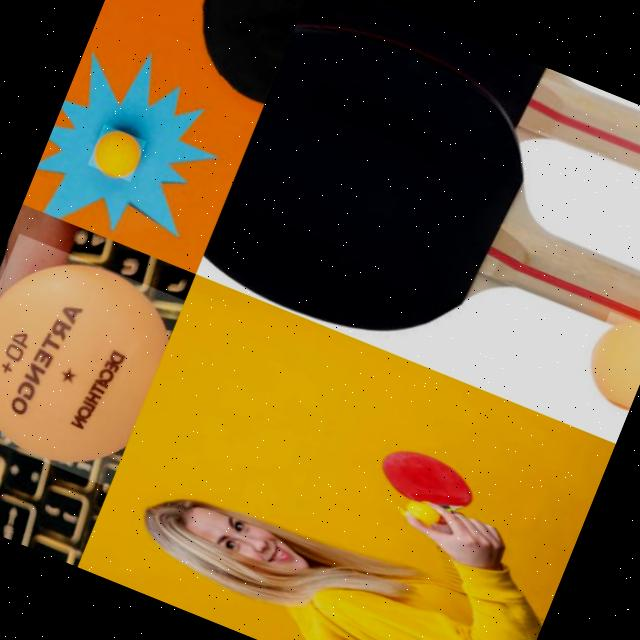ping-pong-ball: (0, 232, 183, 488), (578, 310, 640, 408), (88, 124, 146, 182), (405, 497, 443, 526)
